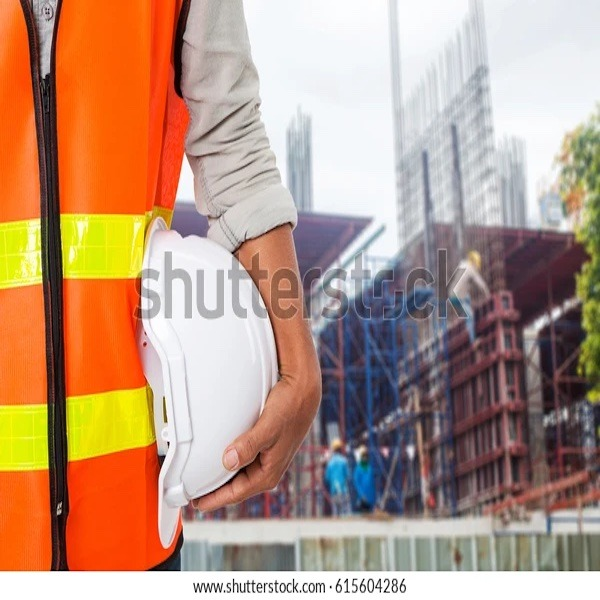helmet: (147, 233, 272, 524)
vest: (10, 9, 139, 562)
